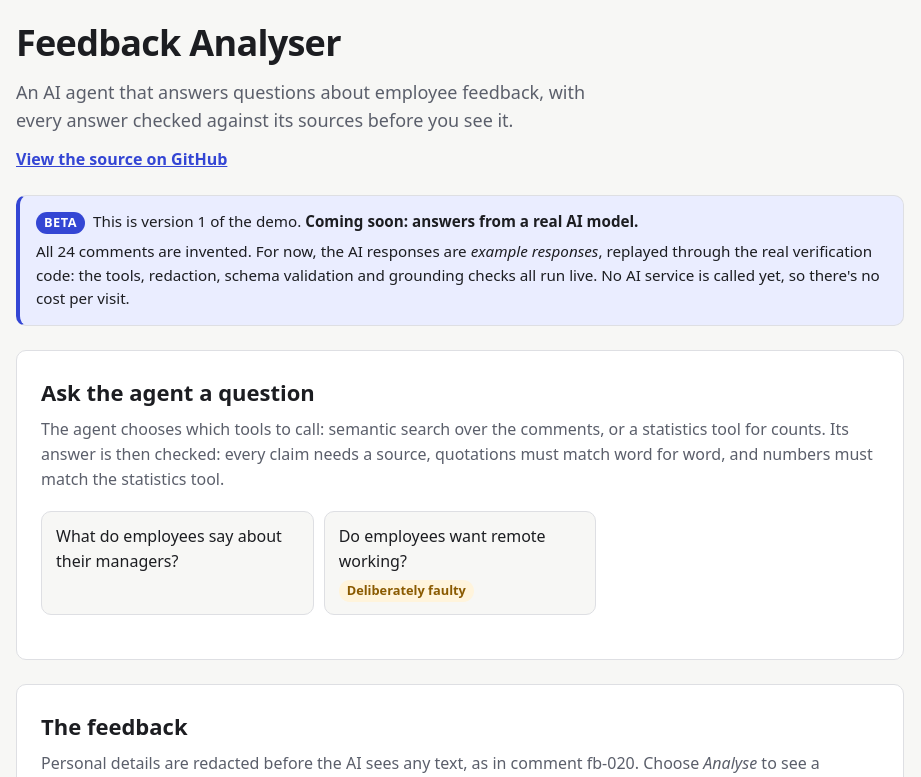
App › shows a verified answer with its sources, quotations and numbers
Click the button "What do employees say about their managers?": (177, 563) x1=41 y1=511 x2=314 y2=615
(page scrolled)
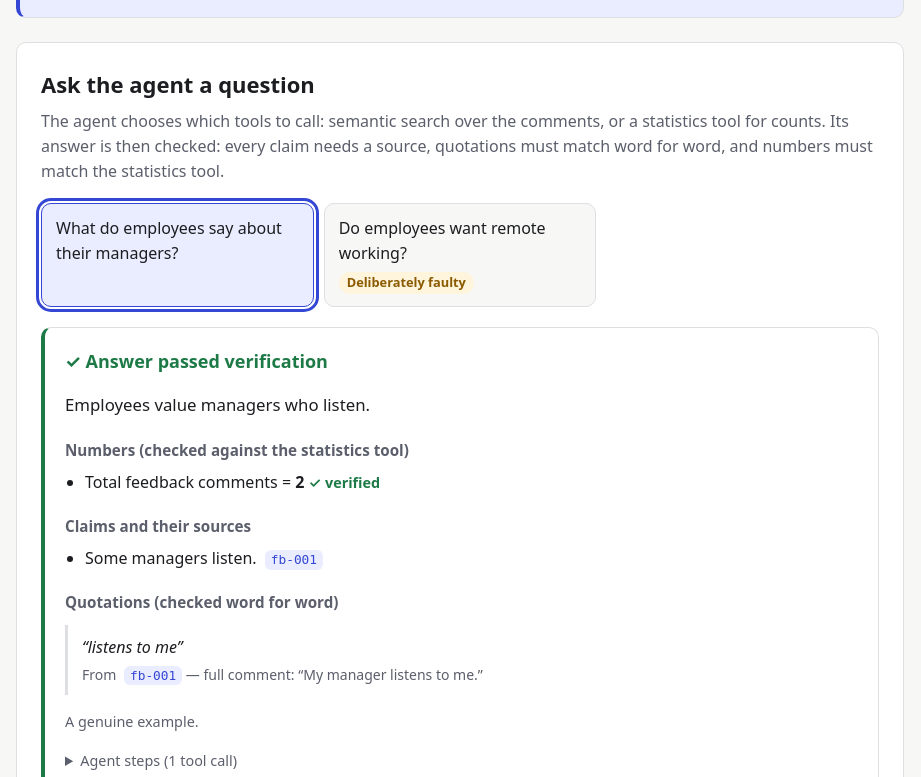
Now the heading "✓ Answer passed verification" is shown, box x1=65 y1=349 x2=328 y2=373
Now the text "Employees value managers who listen." is shown, box x1=65 y1=394 x2=370 y2=416
Now the text "“listens to me”" is shown, box x1=82 y1=636 x2=183 y2=658
